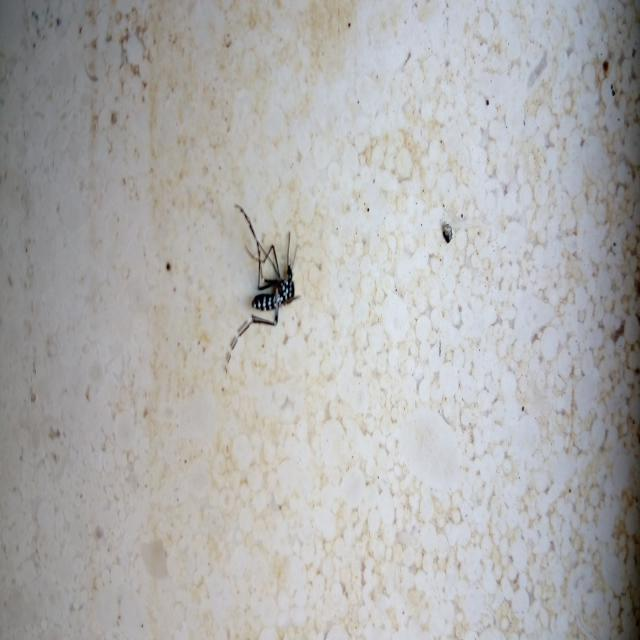albopictus: (219, 199, 301, 388)
